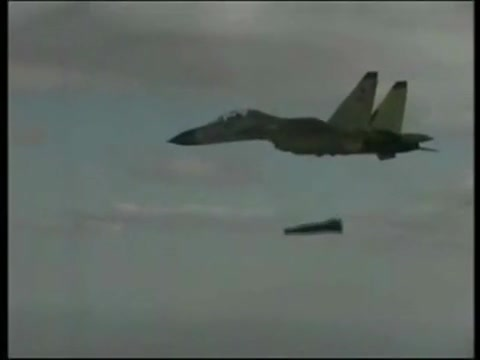aeroplane: (167, 70, 439, 162)
